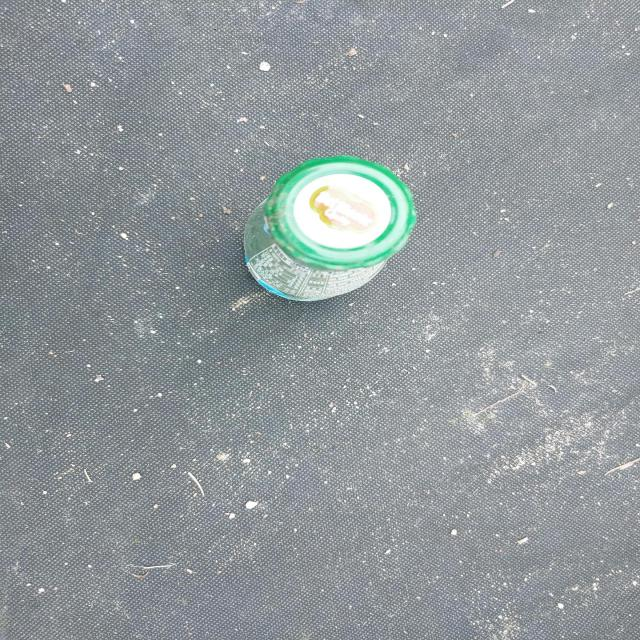glass: (244, 156, 416, 301)
